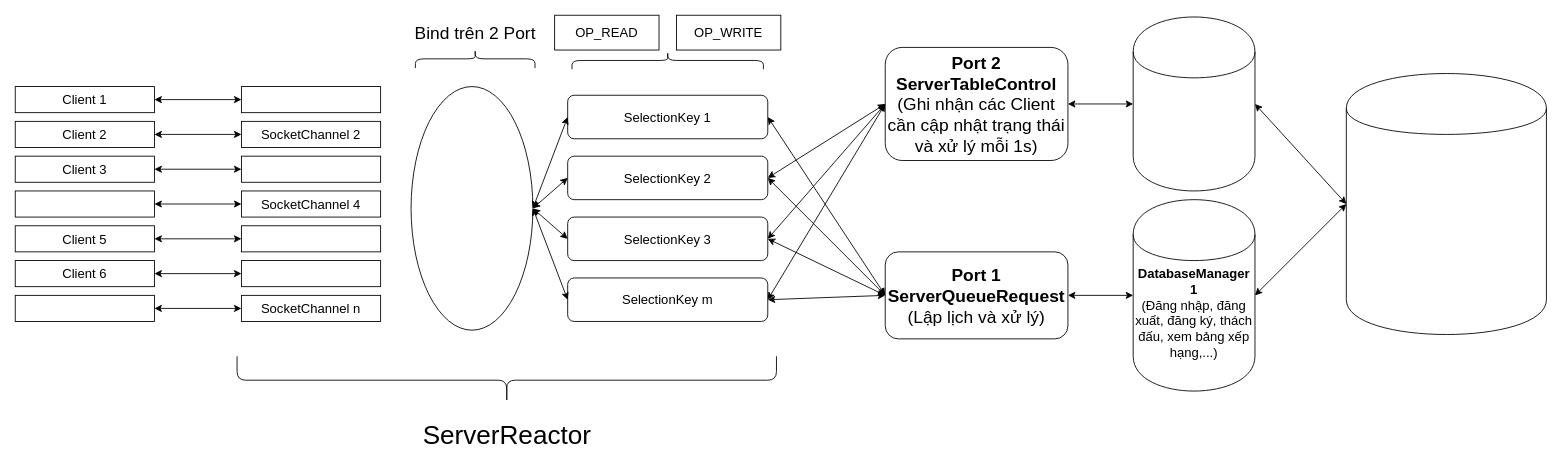
This 1562x465 diagram has some shape labels left out. The shapes that lost their labels are listed below. From the top down, each one's centre as x and y in pixels, then its label:
pixel 311 99: SocketChannel 1
pixel 1193 103: DatabaseManager 2 (Dữ liệu về trạng thái của các User)
pixel 311 168: SocketChannel 3
pixel 84 203: Client 4
pixel 471 208: Cập nhật các ChangeRequest, ChangeData và Select
pixel 1445 204: MySQL Server
pixel 311 238: SocketChannel 5
pixel 311 273: SocketChannel 6
pixel 84 307: Client n
